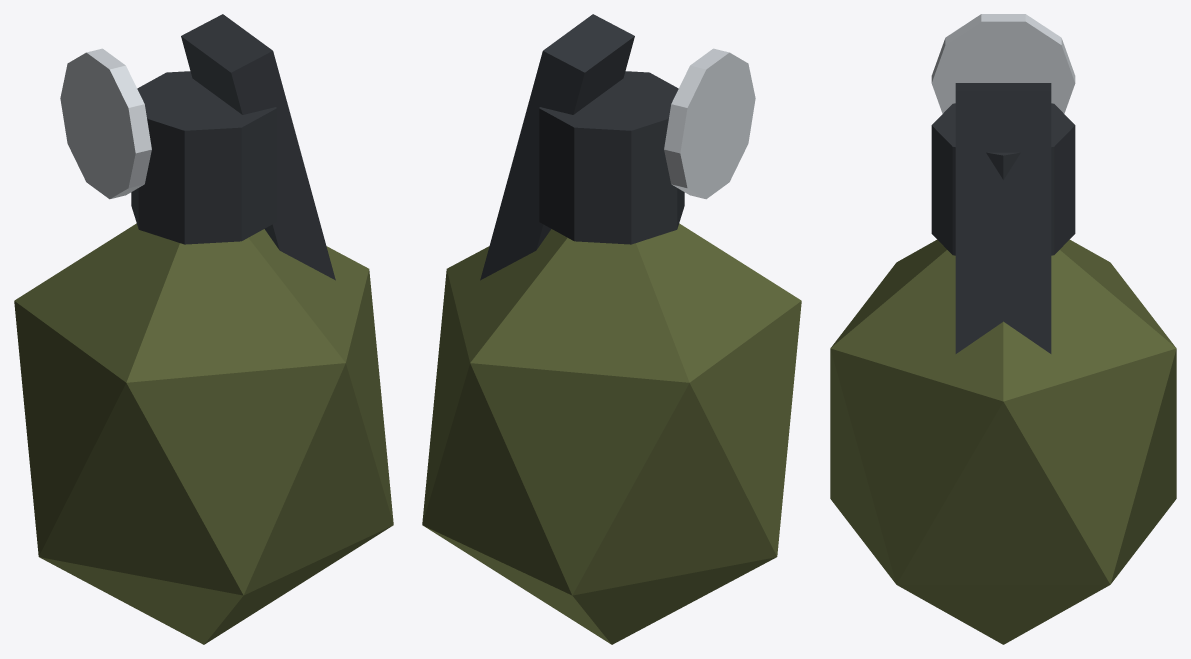
The model's file is WPN_Grenade.fbx.
3 renders of one model, left to right at view 1: azimuth 30°, elevation 25°; view 2: azimuth 150°, elevation 25°; view 3: azimuth 270°, elevation 25°, orthographic. The views are drawn at different scales.
Parts seen in each view (by area): view 1: WPN_Grenade__BODY; view 2: WPN_Grenade__BODY; view 3: WPN_Grenade__BODY.
Part boxes in pixels (x1,y1,x2,y2): WPN_Grenade__BODY: [14, 14, 393, 644]; WPN_Grenade__BODY: [422, 14, 801, 644]; WPN_Grenade__BODY: [830, 14, 1176, 644].
Bounding box in the file's own units: 0.0608 × 0.1072 × 0.0578.
